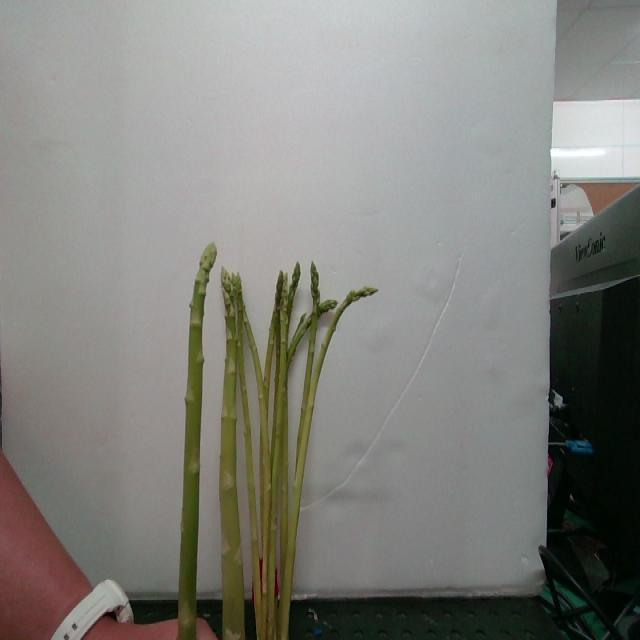aspargus: (275, 288, 378, 640), (175, 244, 216, 640)
